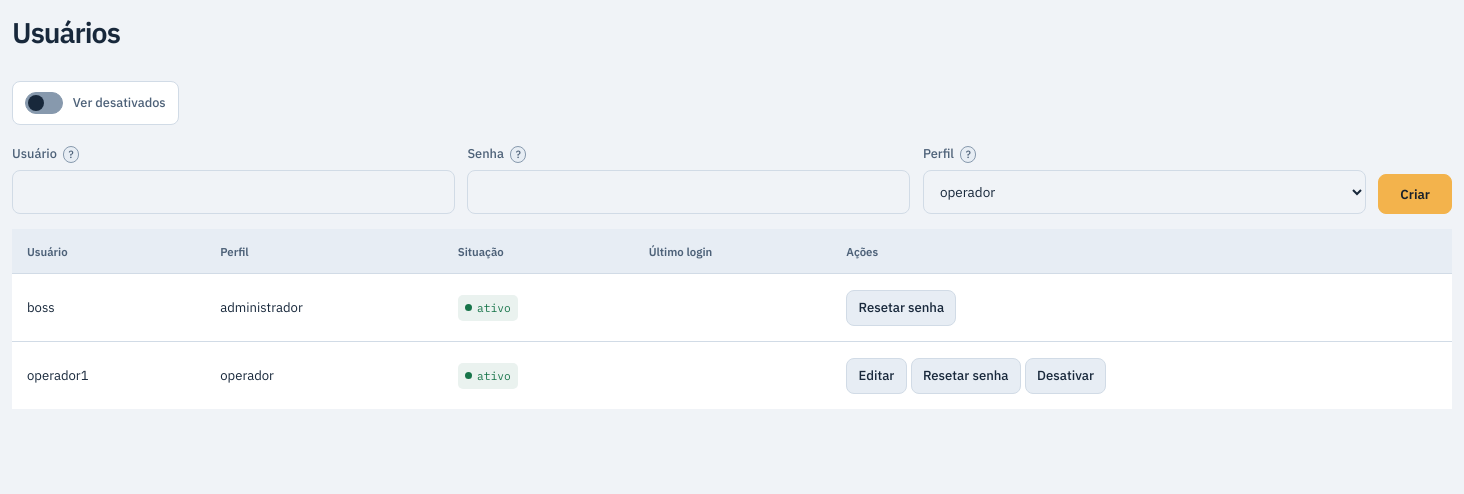
Users › mostra Reativar para usuário inativo
Expected: the text "boss" is shown, [12,274,205,342]
Click the checkbox labelled "Ver desativados".
click(44, 103)  # box [25,92,63,114]
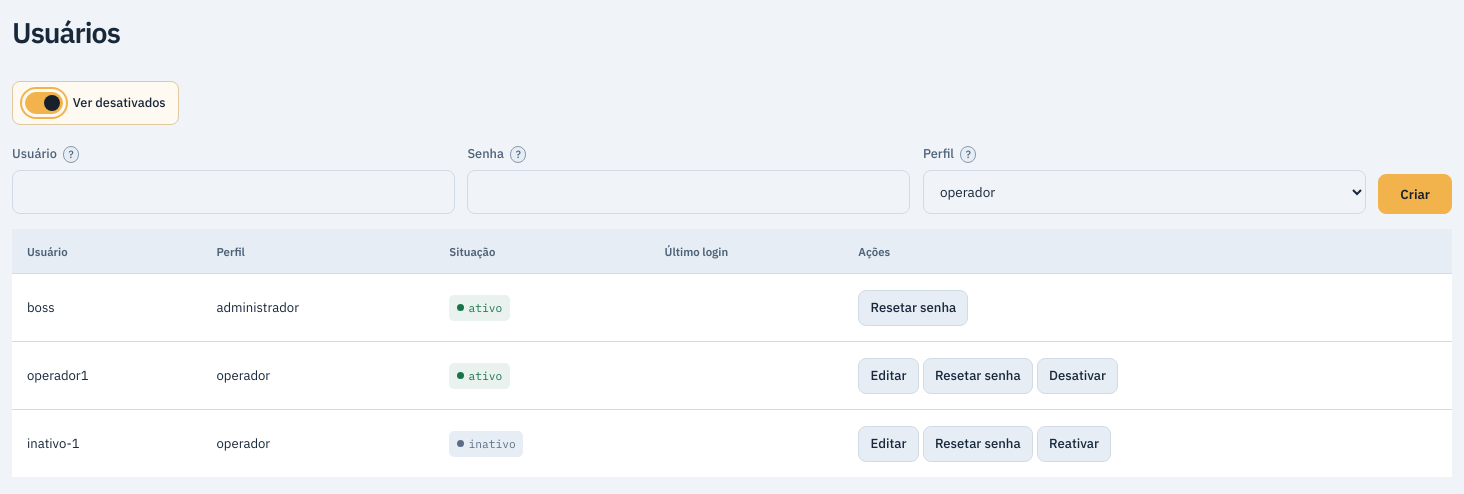
Now the text "inativo-1" is shown, box [12,410,202,478]
Now the button "Reativar" is shown, box [1037,426,1111,462]
